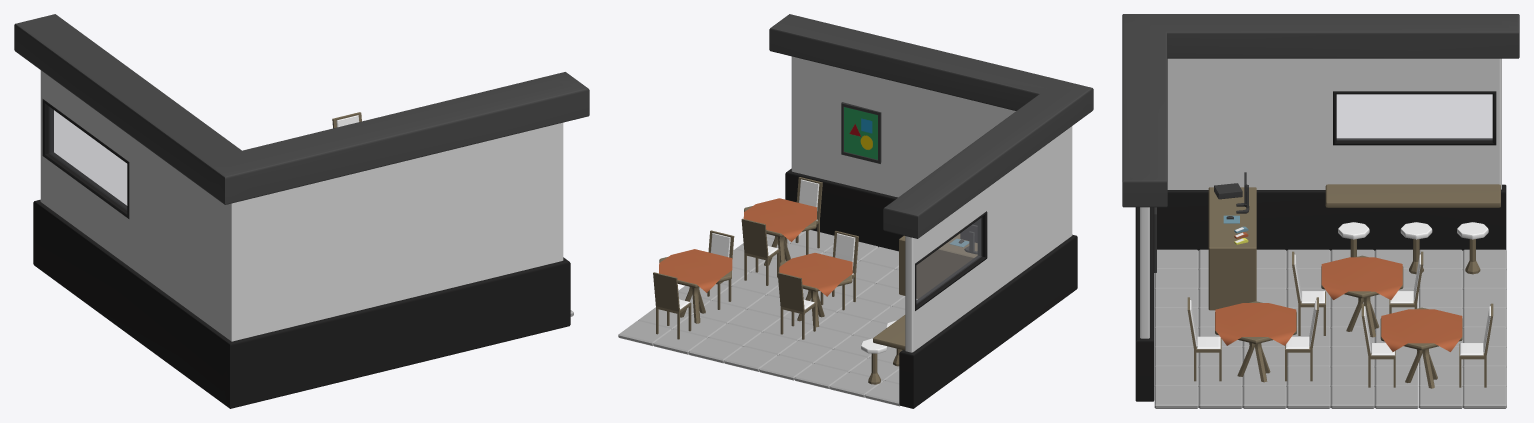
The model's file is restaurant_lowpoly.glb.
3 views of the same model, side by side, from view 1: azimuth 30°, elevation 25°; view 2: azimuth 150°, elevation 25°; view 3: azimuth 270°, elevation 25° (orthographic). The views are drawn at different scales.
Visible parts, largest first — view 1: Parede, Vidro; view 2: Parede, Vidro, Balcao, Quadro1, Toalha_de_Mesa3, Toalha_de_Mesa2, Toalha_de_Mesa, Cadeira5, Cadeira4, Cadeira, Cadeira6, Cadeira2 (+34 smaller); view 3: Parede, Vidro, Balcao, Bancada, Toalha_de_Mesa, Toalha_de_Mesa3, Toalha_de_Mesa2, Piso56, Piso60, Piso61, Piso62, Piso63 (+58 smaller).
Boxes of the visible parts, x1=… form: Parede: x1=14, y1=14, x2=589, y2=408; Vidro: x1=49, y1=107, x2=126, y2=209; Parede: x1=769, y1=14, x2=1093, y2=408; Vidro: x1=916, y1=218, x2=981, y2=303; Balcao: x1=899, y1=233, x2=977, y2=298; Quadro1: x1=841, y1=102, x2=881, y2=163; Toalha_de_Mesa3: x1=659, y1=249, x2=732, y2=292; Toalha_de_Mesa2: x1=743, y1=198, x2=816, y2=241; Toalha_de_Mesa: x1=779, y1=253, x2=852, y2=296; Cadeira5: x1=777, y1=272, x2=815, y2=339; Cadeira4: x1=653, y1=272, x2=691, y2=339; Cadeira: x1=741, y1=218, x2=779, y2=285; Cadeira6: x1=820, y1=231, x2=858, y2=310; Cadeira2: x1=785, y1=177, x2=822, y2=254; Parede: x1=1122, y1=14, x2=1519, y2=401; Vidro: x1=1337, y1=94, x2=1492, y2=139; Balcao: x1=1208, y1=187, x2=1256, y2=310; Bancada: x1=1325, y1=184, x2=1500, y2=207; Toalha_de_Mesa: x1=1321, y1=257, x2=1402, y2=299; Toalha_de_Mesa3: x1=1381, y1=309, x2=1462, y2=351; Toalha_de_Mesa2: x1=1215, y1=303, x2=1296, y2=345; Piso56: x1=1154, y1=386, x2=1198, y2=408; Piso60: x1=1242, y1=386, x2=1286, y2=408; Piso61: x1=1374, y1=386, x2=1418, y2=408; Piso62: x1=1198, y1=386, x2=1242, y2=408; Piso63: x1=1286, y1=386, x2=1330, y2=408.
Size of the model in its own units: 0.2723 by 0.1711 by 0.2708.
Materials: 17 (1 with a texture image).
